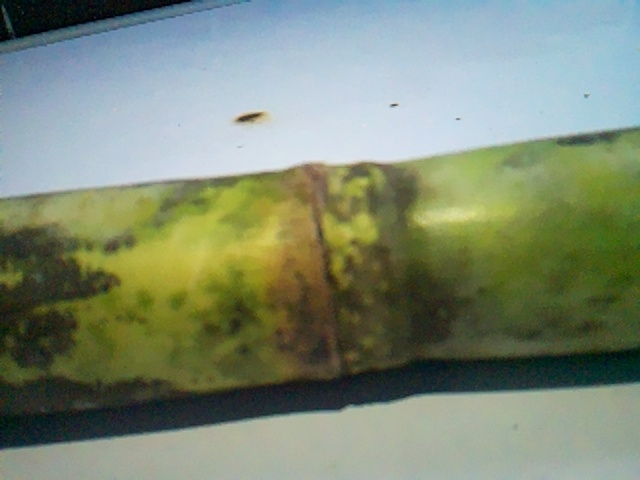Good Sugarcane: (0, 122, 638, 419)
Node: (244, 160, 450, 384)
